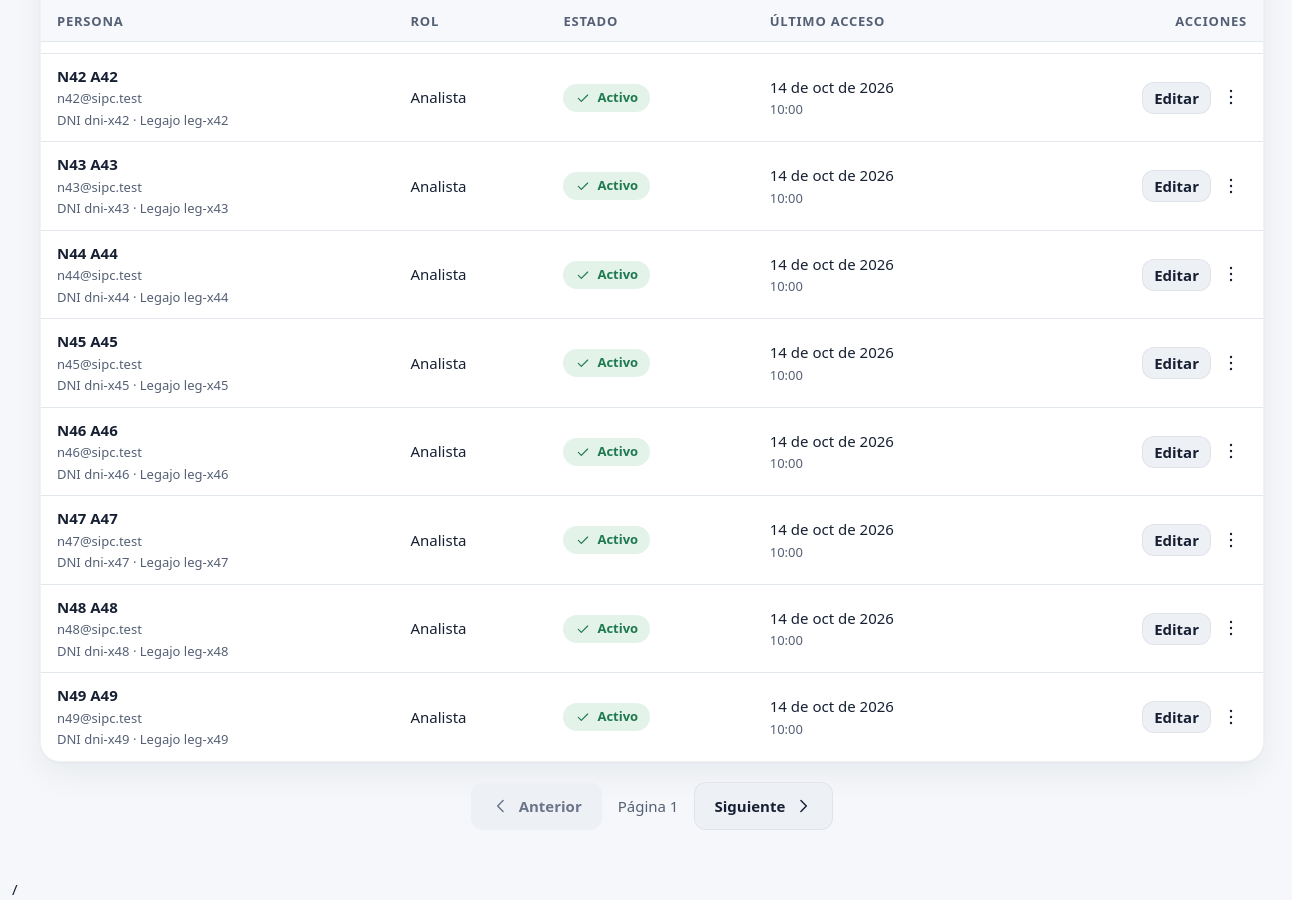
Test: UsuariosPage list › paginates when a full page comes back
(page scrolled)
Click the button "Siguiente".
click(764, 806)  # box [694,782,833,830]
(page scrolled)
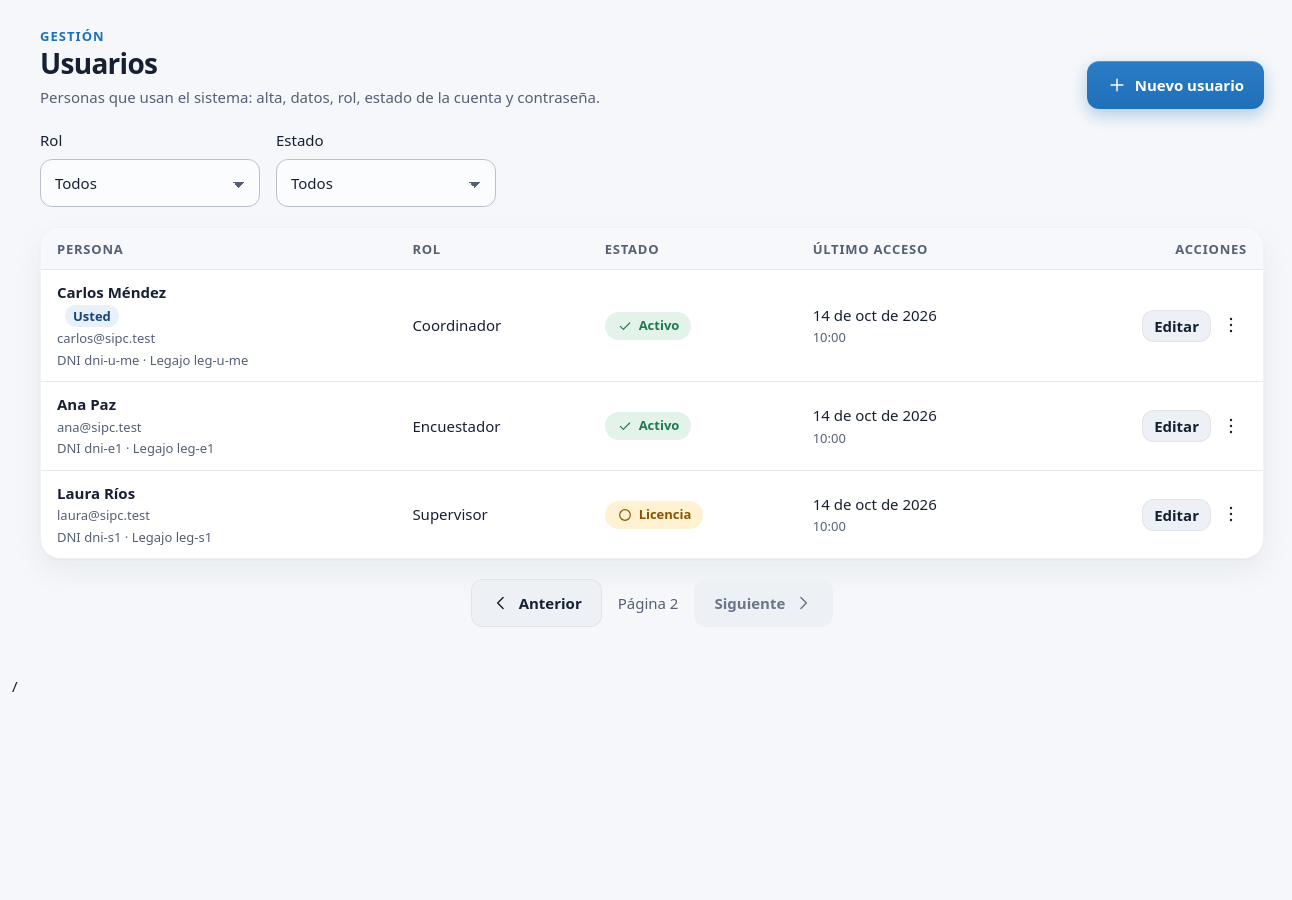
Expected: the text "Página 2" is shown, [618,592,678,615]
